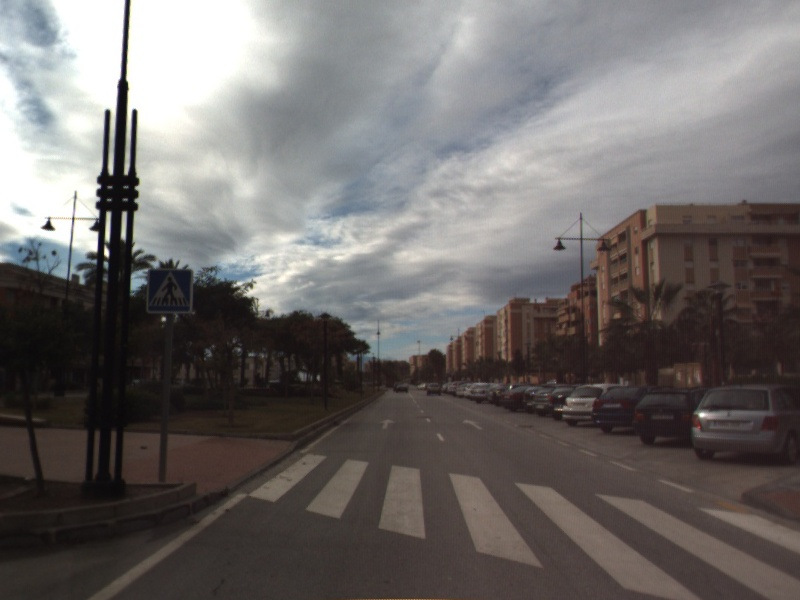STRAIGHT: (461, 417, 485, 431), (377, 417, 398, 431)
